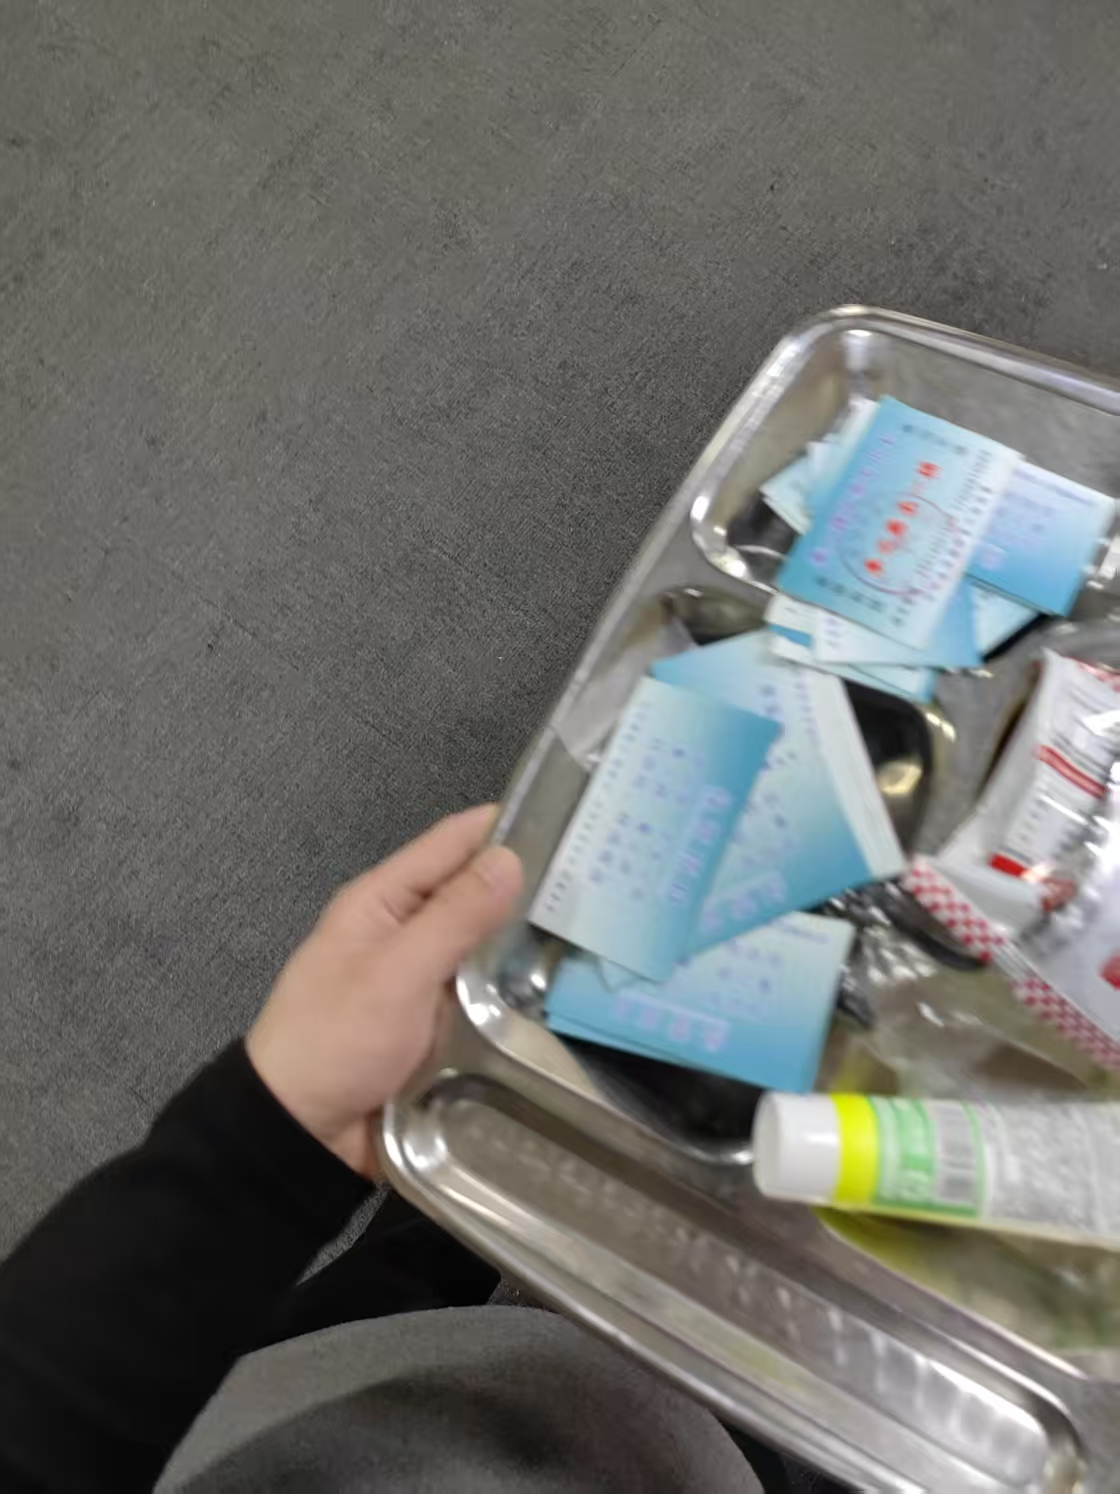plate: (364, 301, 1120, 1494)
severe: (524, 394, 1120, 1250)
